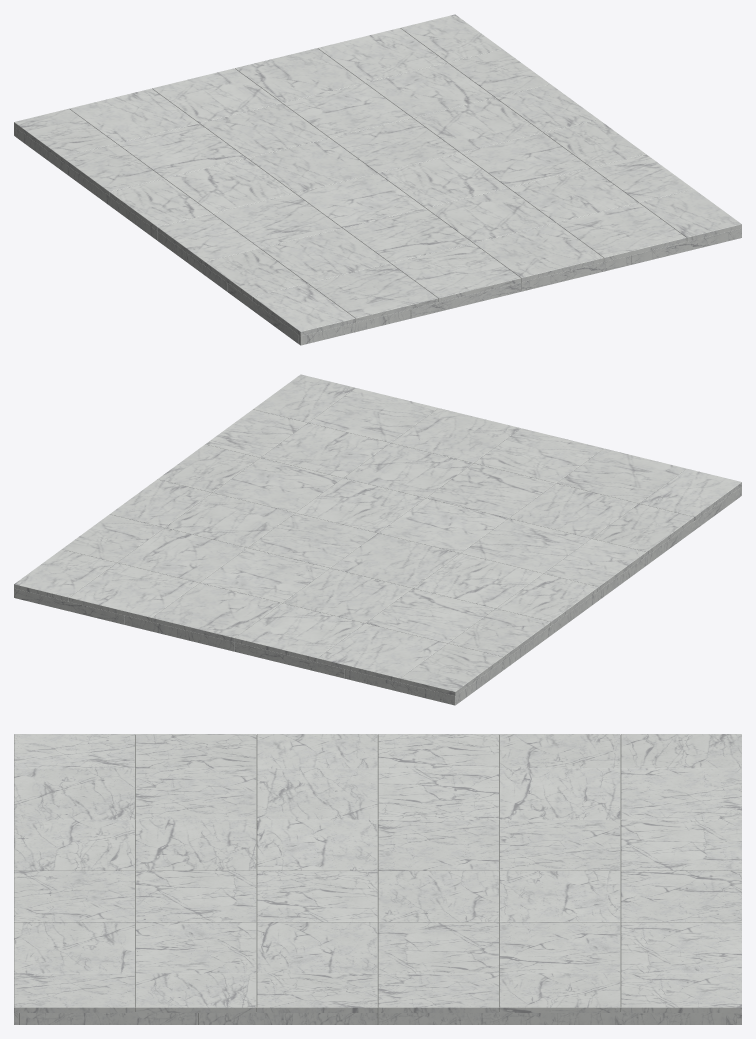
File: floor-marble-large.glb
The picture shows the model from 3 angles, top to bottom: view 1: azimuth 30°, elevation 25°; view 2: azimuth 150°, elevation 25°; view 3: azimuth 270°, elevation 25°; orthographic projection. The views are drawn at different scales.
Parts seen in each view (by area): view 1: Stone_field_marble, Stone_edge_marble; view 2: Stone_field_marble, Stone_edge_marble; view 3: Stone_field_marble, Stone_edge_marble, Joint_and_bedding_marble.
Part boxes in pixels (box(x1,y1,x2,y2)): Stone_field_marble: box(14, 14, 741, 335); Stone_edge_marble: box(14, 126, 741, 345); Stone_field_marble: box(14, 374, 741, 695); Stone_edge_marble: box(14, 486, 741, 705); Stone_field_marble: box(14, 734, 741, 1012); Stone_edge_marble: box(14, 1012, 741, 1024); Joint_and_bedding_marble: box(19, 734, 736, 1024).
Size of the model in its own units: 3.2 by 0.096 by 3.6.
Materials: 3 (2 with a texture image).
